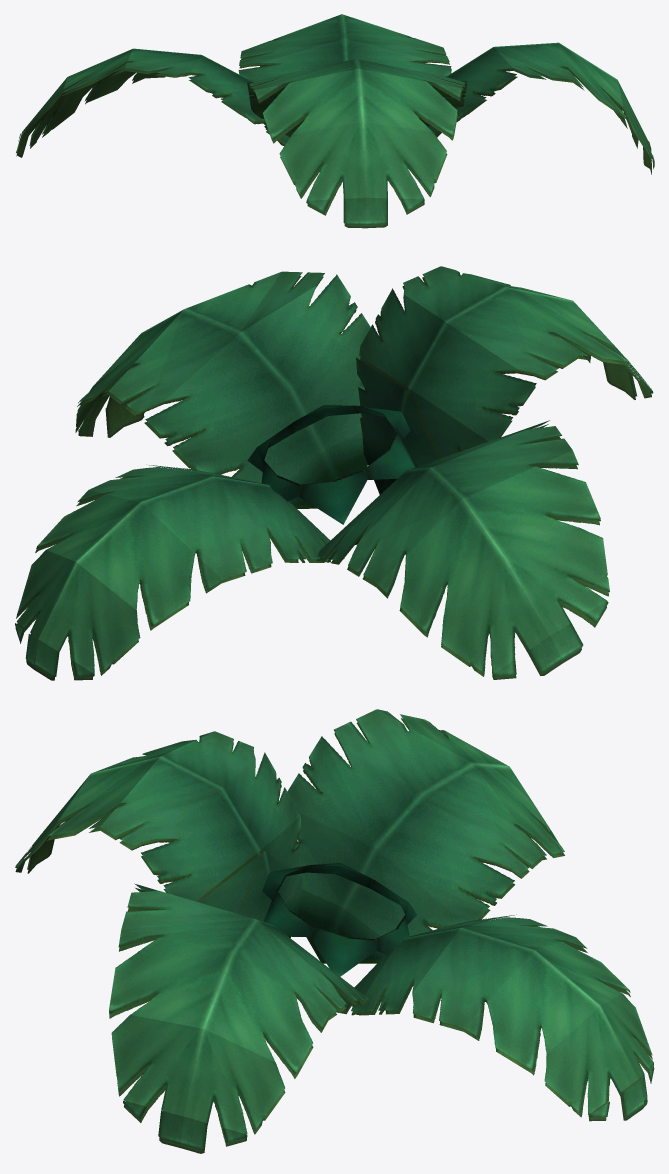
Rendered from FixedLeaves.obj.
The picture shows the model from 3 angles, top to bottom: view 1: azimuth 30°, elevation 25°; view 2: azimuth 150°, elevation 25°; view 3: azimuth 270°, elevation 25°; orthographic projection. The views are drawn at different scales.
Parts seen in each view (by area): view 1: polygon11, polygon9; view 2: polygon11, polygon9; view 3: polygon11, polygon9.
Part boxes in pixels (x1,y1,x2,y2): polygon11: [16, 14, 654, 225]; polygon9: [16, 50, 654, 228]; polygon11: [15, 266, 653, 676]; polygon9: [15, 276, 651, 680]; polygon11: [15, 709, 653, 1150]; polygon9: [15, 718, 654, 1153].
Size of the model in its own units: 13.72 by 5.4 by 12.17.
